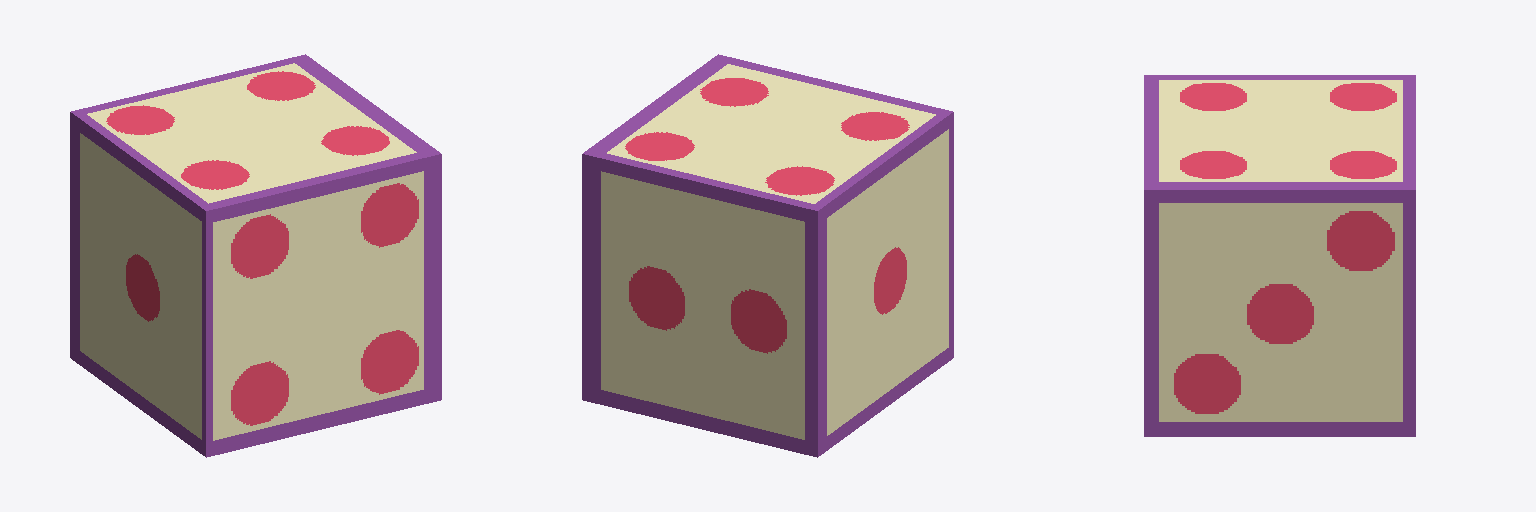
The picture shows the model from 3 angles: view 1: azimuth 30°, elevation 25°; view 2: azimuth 150°, elevation 25°; view 3: azimuth 270°, elevation 25°; orthographic projection.
Parts seen in each view (by area): view 1: Cube; view 2: Cube; view 3: Cube.
Boxes of the visible parts, x1=… form: Cube: x1=70, y1=54, x2=441, y2=457; Cube: x1=582, y1=54, x2=953, y2=457; Cube: x1=1144, y1=75, x2=1415, y2=436.
Bounding box in the file's own units: 2 × 2 × 2.
Materials: 1 (1 with a texture image).